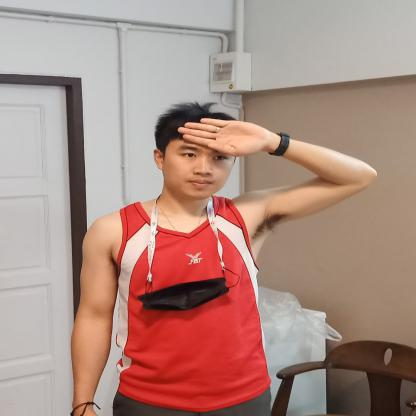Sick: (76, 91, 320, 177)
